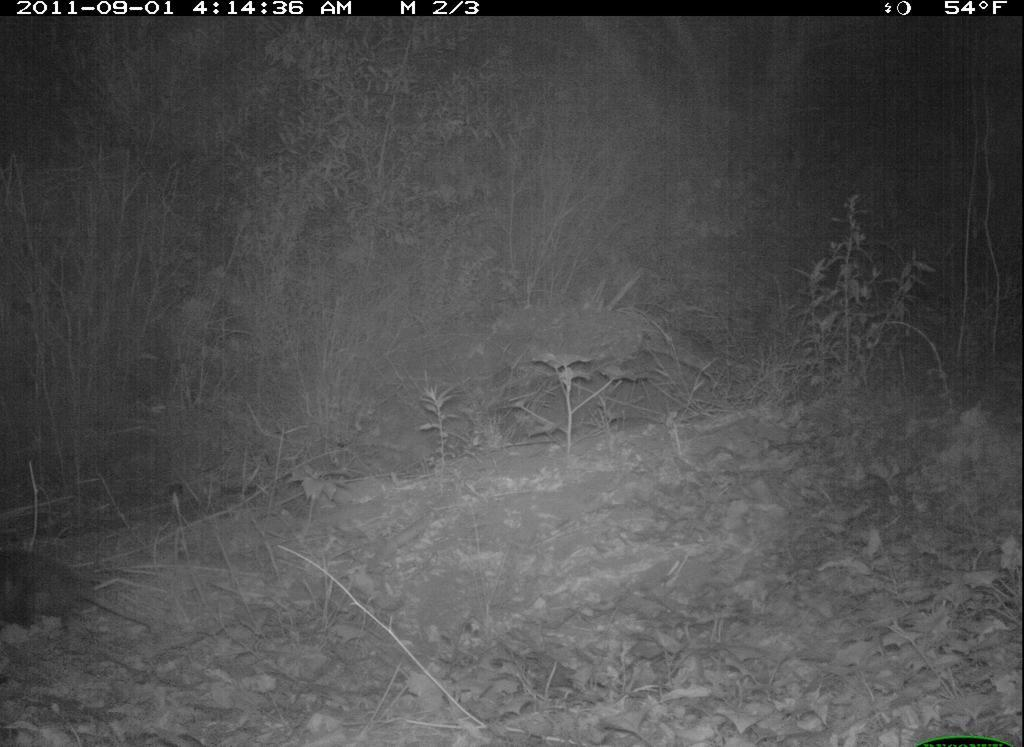opossum: (1, 541, 161, 655)
